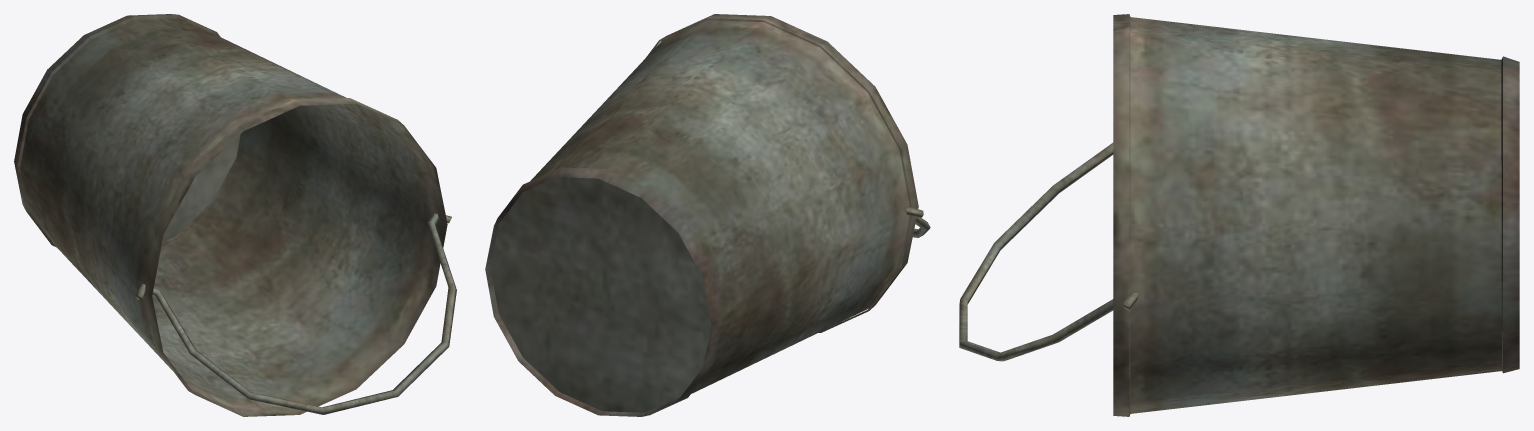
The model's file is prop_metal_pail2.glb.
3 renders of one model, left to right at view 1: azimuth 30°, elevation 25°; view 2: azimuth 150°, elevation 25°; view 3: azimuth 270°, elevation 25°, orthographic. The views are drawn at different scales.
Bounding box in the file's own units: 15.89 × 14.85 × 20.63.
1 material, 1 textured.
